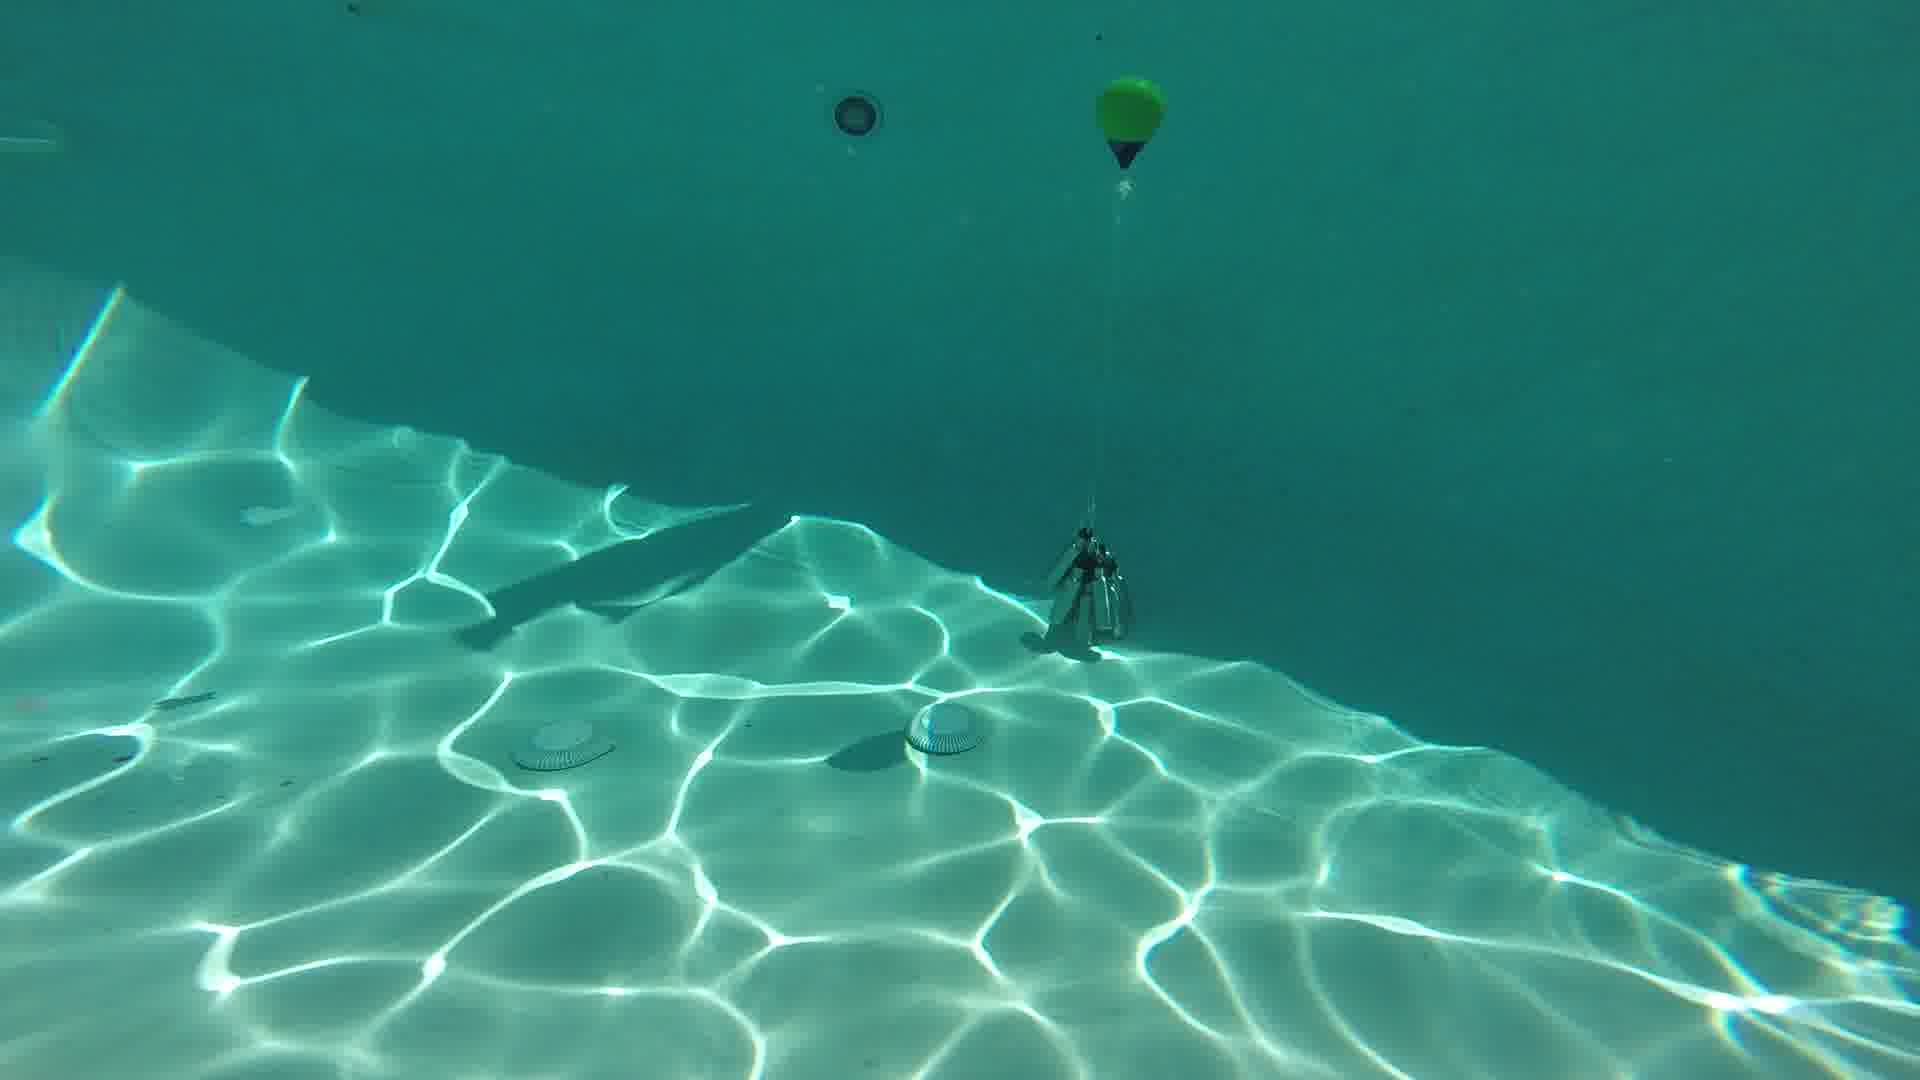yellow_buoy: (1092, 74, 1167, 199)
